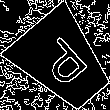P_SE: (32, 31, 94, 93)
